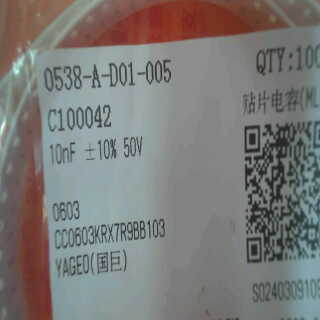10nF: (44, 138, 82, 169)
